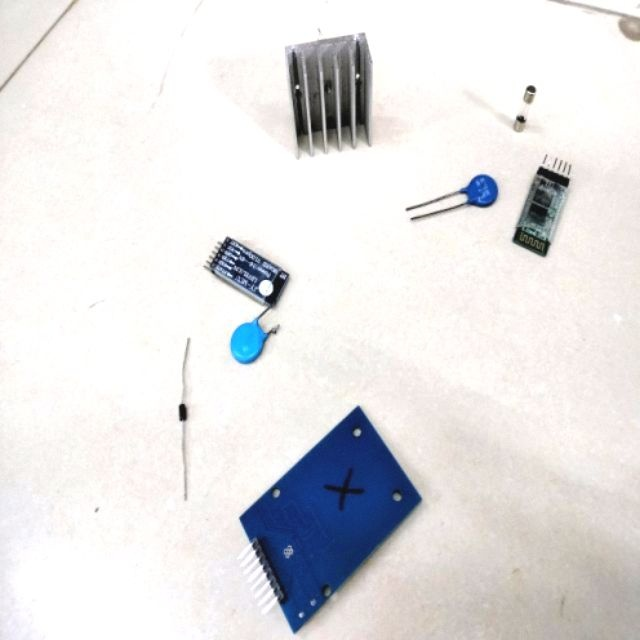capacitor: (231, 322, 266, 364), (465, 175, 497, 207)
